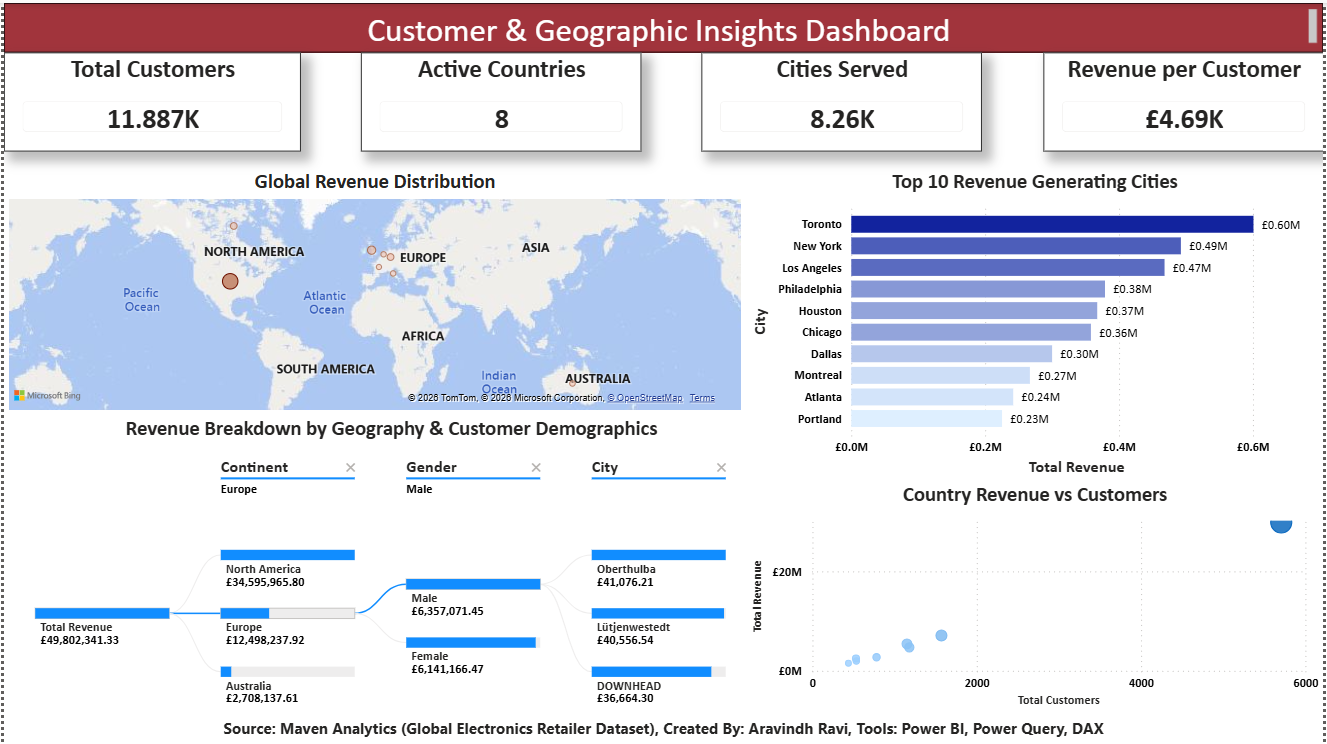

This screenshot's page, from the dashboard's own definition file:
{"tool":"powerbi","page":{"name":"Customer & Geographic Insights","canvas":[1280,720],"ordinal":2},"visuals":[{"type":"textbox","box":[0,0,1280,48],"z":0},{"type":"cardVisual","title":"Total Customers","fields":{"Data":["Measure.Total Customers"]},"box":[0,48,288,96],"z":1000,"group":"g1"},{"type":"map","title":"Global Revenue Distribution","fields":{"Category":["DimCustomer.Country"],"Size":["Measure.Total Revenue"]},"box":[0,160,720,240],"z":1000},{"type":"cardVisual","title":"Active Countries","fields":{"Data":["Measure.Countries Served"]},"box":[346.7,48,272,96],"z":2000,"group":"g1"},{"type":"decompositionTreeVisual","title":"Revenue Breakdown by Geography & Customer Demographics","fields":{"ExplainBy":["DimCustomer.Continent","DimCustomer.Gender","DimCustomer.City"],"Analyze":["Measure.Total Revenue"]},"box":[0,400,752,288],"z":2000},{"type":"cardVisual","title":"Cities Served","fields":{"Data":["Measure.Cities Served"]},"box":[677.3,48,272,96],"z":3000,"group":"g1"},{"type":"clusteredBarChart","title":"Top 10 Revenue Generating Cities","fields":{"Category":["DimCustomer.City"],"Y":["Measure.Total Revenue"]},"box":[720,160,560,304],"z":3000},{"type":"cardVisual","title":"Revenue per Customer","fields":{"Data":["Measure.Revenue per Customer"]},"box":[1008,48,272,96],"z":4000,"group":"g1"},{"type":"scatterChart","title":"Country Revenue vs Customers","fields":{"X":["Measure.Total Customers"],"Y":["Measure.Total Revenue"],"Category":["DimCustomer.Country"],"Size":["Measure.Total Profit"]},"box":[720,464,560,224],"z":4000},{"type":"textbox","box":[0,688,1280,32],"z":6000},{"type":"group","id":"g1","title":"Group 1","box":[0,48,1280,96],"z":7000}]}

Visuals, with their boxes in screenshot pixels (x1, y1, x2, y2), scaled from the page's 1280x720 canvas onto the 1327x744 screenshot:
textbox: (x1=0, y1=0, x2=1326, y2=50)
"Total Customers" cardVisual: (x1=0, y1=50, x2=299, y2=149)
"Global Revenue Distribution" map: (x1=0, y1=165, x2=746, y2=413)
"Active Countries" cardVisual: (x1=359, y1=50, x2=641, y2=149)
"Revenue Breakdown by Geography & Customer Demographics" decompositionTreeVisual: (x1=0, y1=413, x2=780, y2=711)
"Cities Served" cardVisual: (x1=702, y1=50, x2=984, y2=149)
"Top 10 Revenue Generating Cities" clusteredBarChart: (x1=746, y1=165, x2=1326, y2=479)
"Revenue per Customer" cardVisual: (x1=1045, y1=50, x2=1326, y2=149)
"Country Revenue vs Customers" scatterChart: (x1=746, y1=479, x2=1326, y2=711)
textbox: (x1=0, y1=711, x2=1326, y2=743)
"Group 1" group: (x1=0, y1=50, x2=1326, y2=149)
